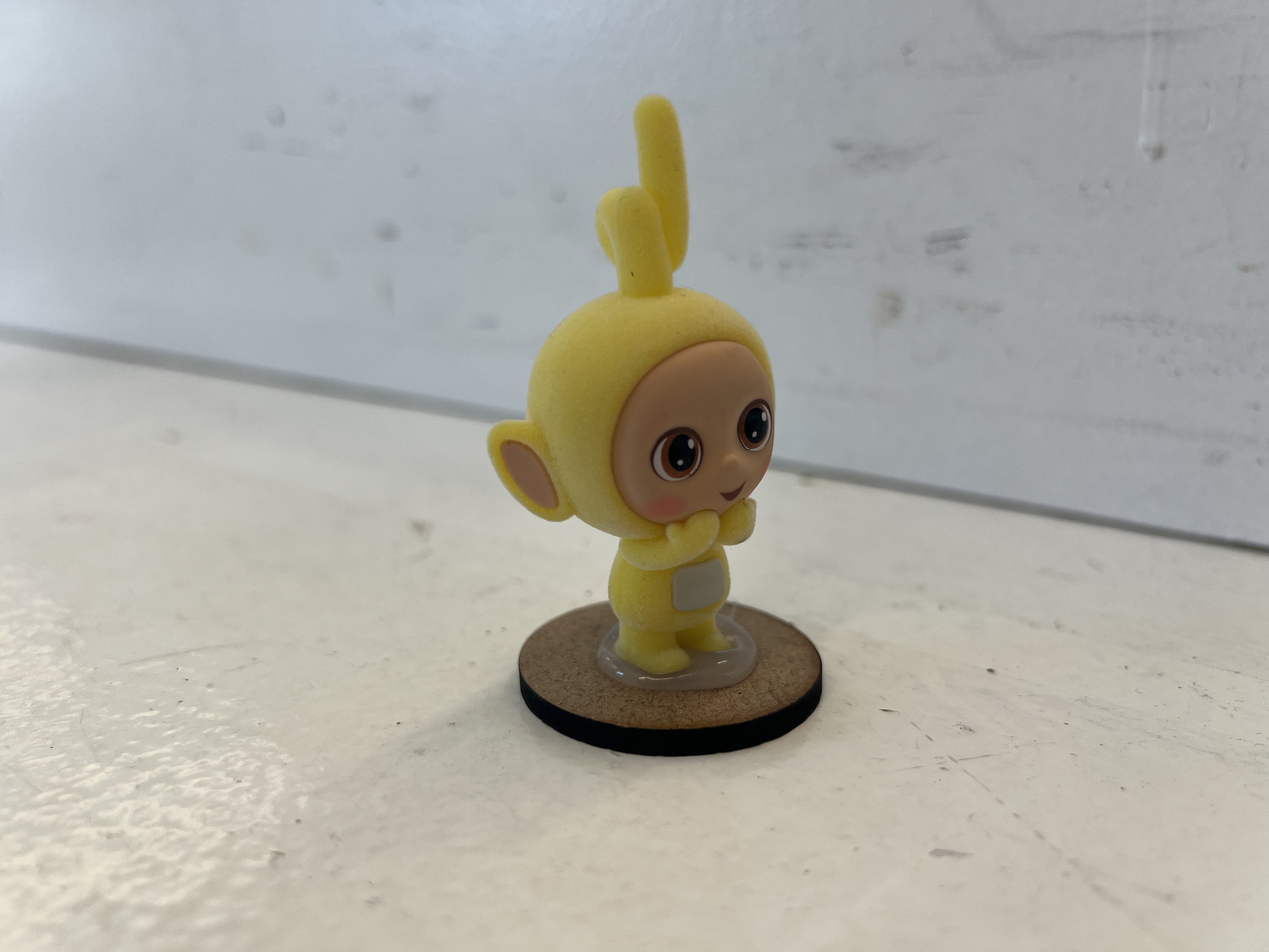teletubby: (489, 96, 774, 674)
